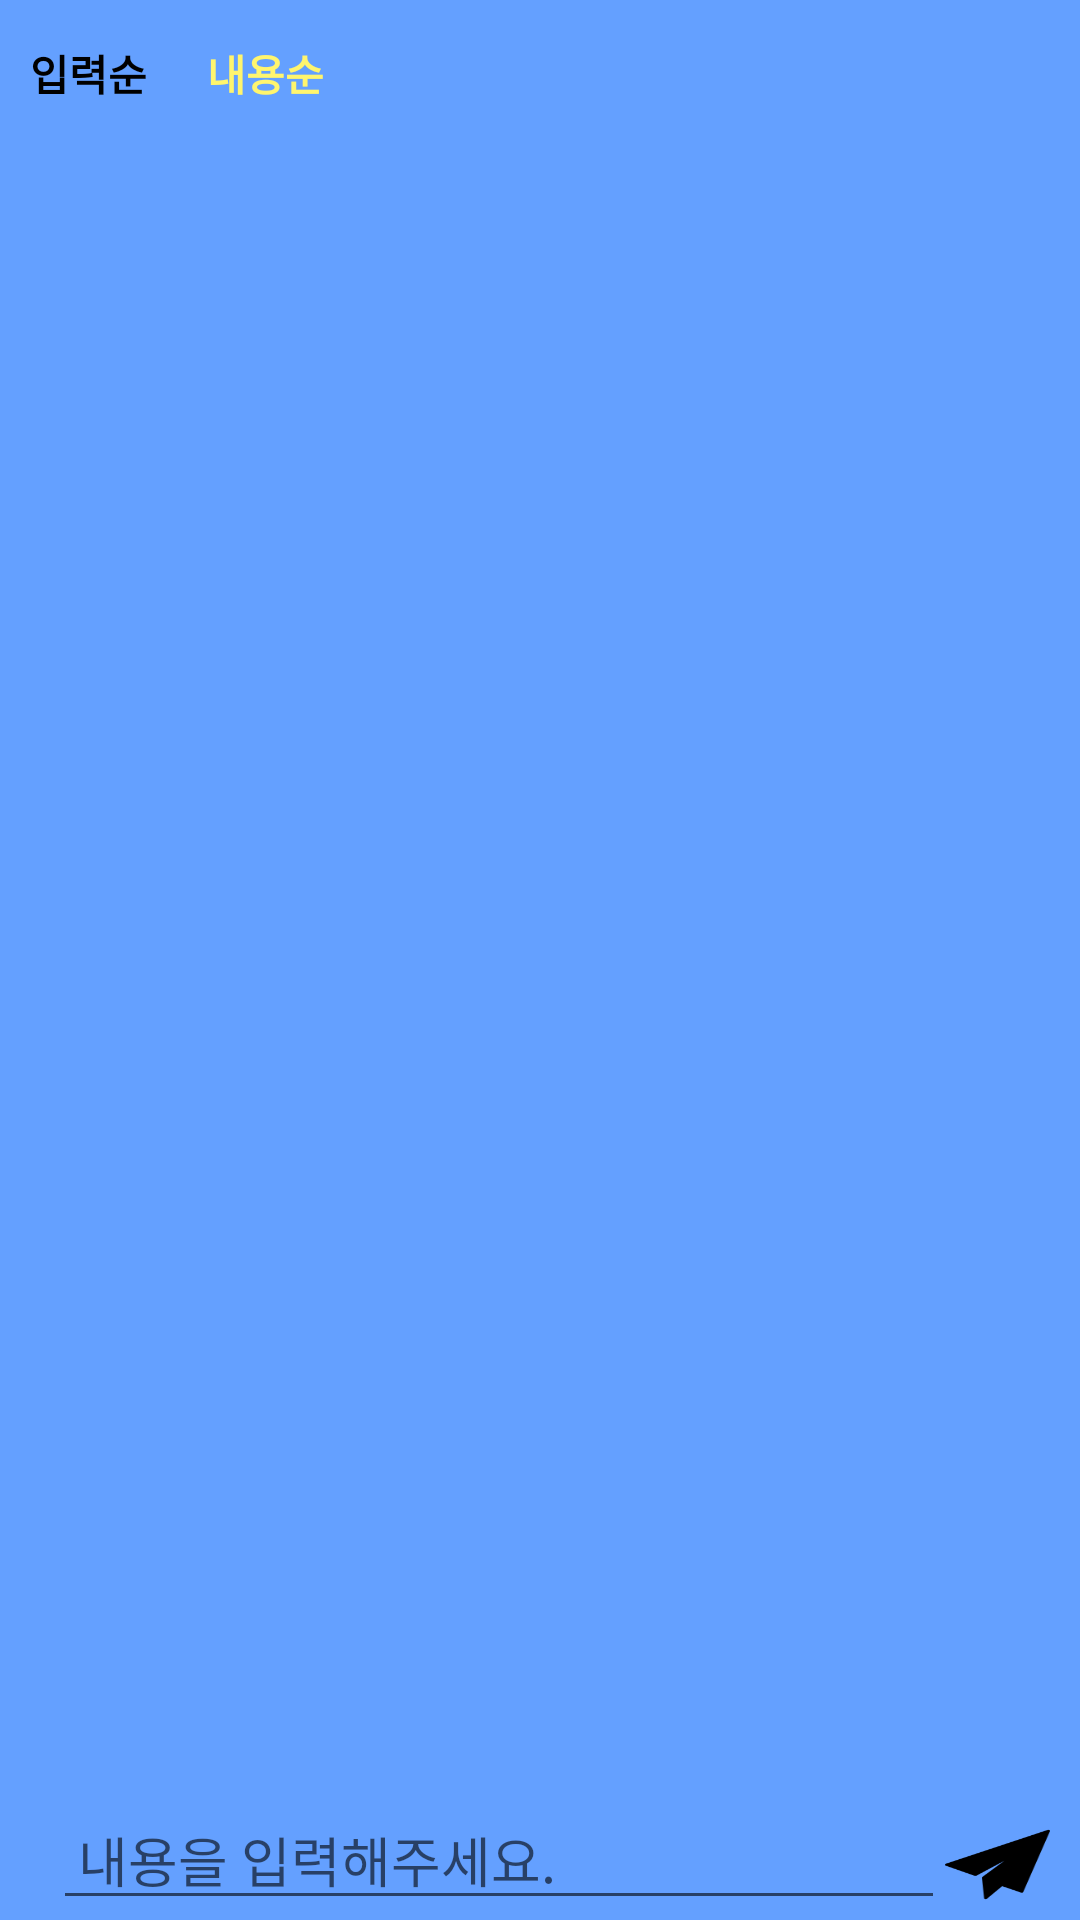

Named icons in this screenshot (1080w x 1920h) and their centers, point (x, y):
send: point (997, 1864)
